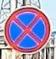No Parking: (5, 9, 52, 54)
